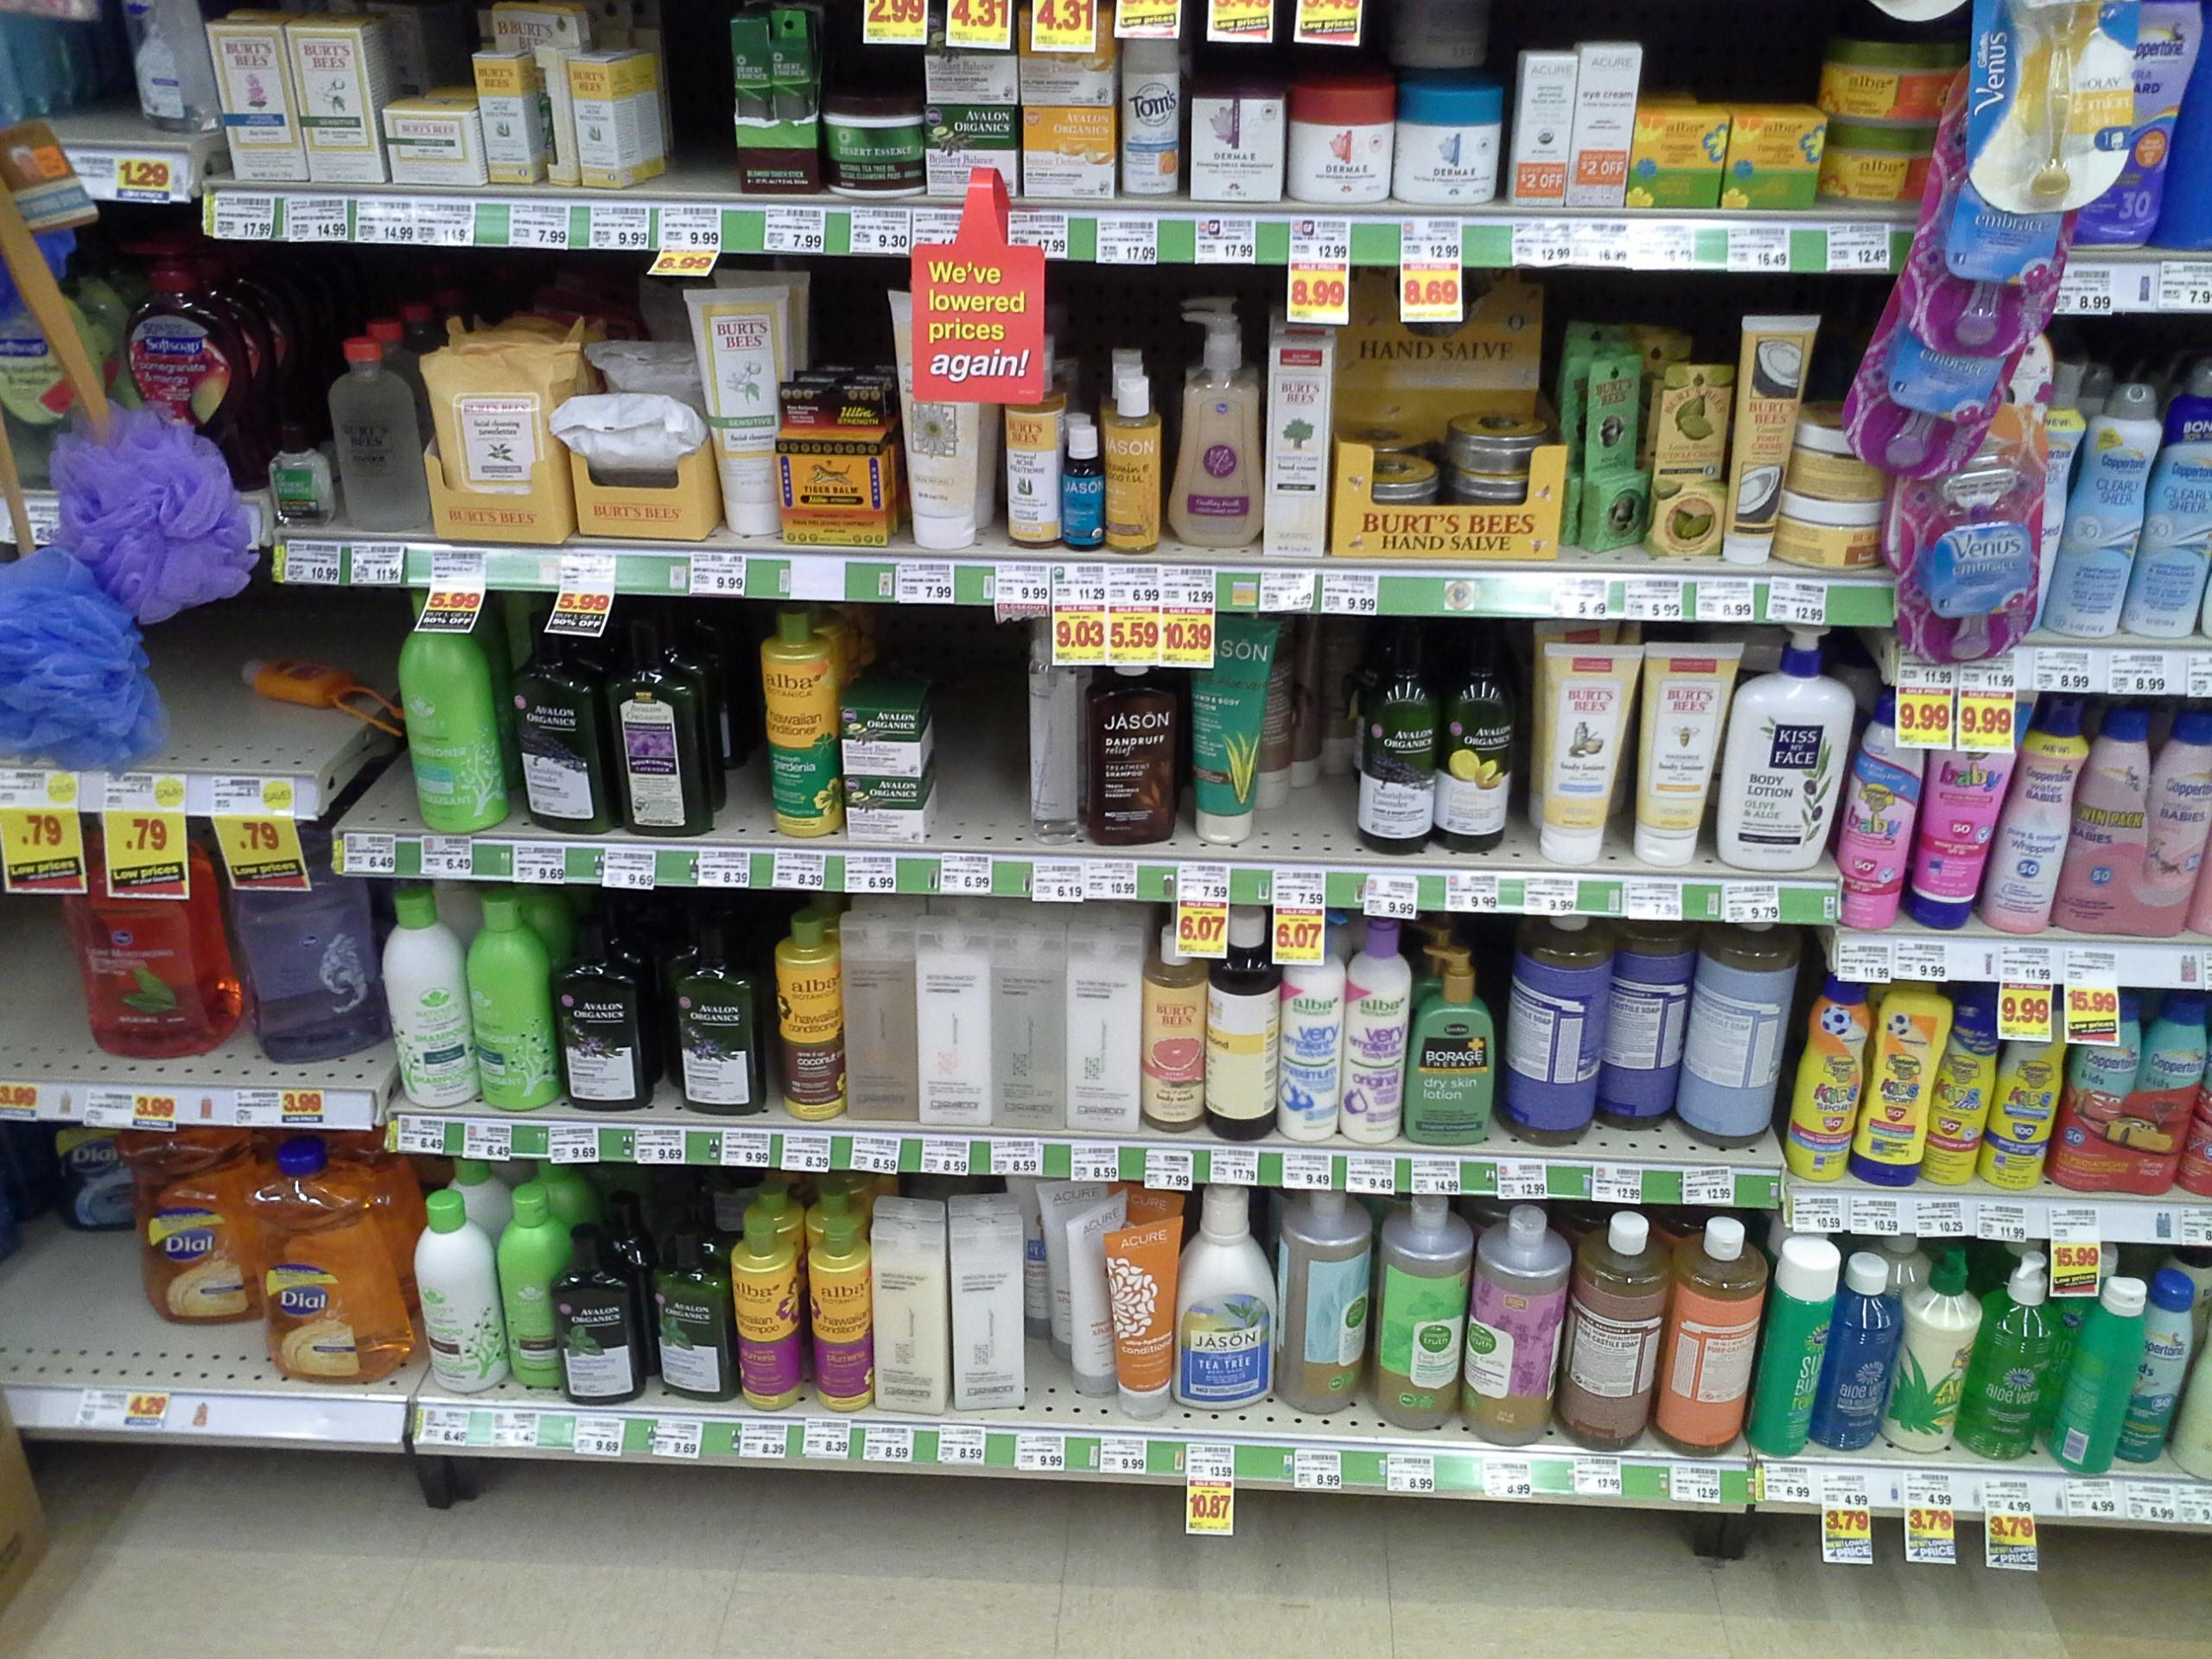empty: (939, 619, 1014, 842)
misalignment: (1049, 1192, 1181, 1417), (232, 645, 397, 751), (1256, 622, 1348, 809)
